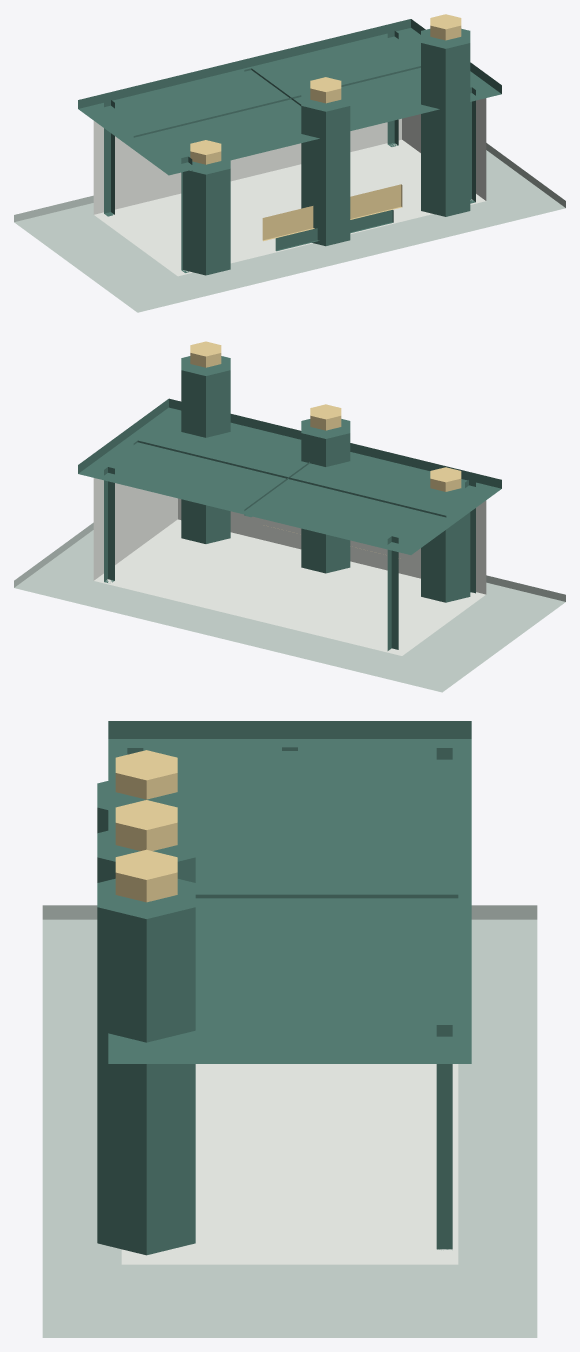
File: gas_station_utility.glb
3 views of the same model, one above another, from view 1: azimuth 30°, elevation 25°; view 2: azimuth 150°, elevation 25°; view 3: azimuth 270°, elevation 25° (orthographic). The views are drawn at different scales.
Visible parts, largest first — view 1: Roof, Details, Walls, Foundation, Frame; view 2: Walls, Roof, Foundation, Details, Frame; view 3: Roof, Foundation, Walls, Details, Frame.
Boxes of the visible parts, box(x1,y1,x2,y2) form: Roof: box(78, 19, 501, 175); Details: box(183, 14, 470, 275); Walls: box(93, 98, 486, 276); Foundation: box(14, 143, 565, 312); Frame: box(104, 30, 475, 272); Walls: box(93, 478, 486, 655); Roof: box(78, 398, 501, 554); Foundation: box(14, 522, 565, 692); Details: box(181, 341, 470, 602); Frame: box(104, 440, 475, 650); Roof: box(108, 721, 471, 1063); Foundation: box(42, 905, 537, 1337); Walls: box(121, 1064, 458, 1264); Details: box(97, 750, 195, 1255); Frame: box(127, 747, 458, 1249).
Bounding box in the file's own units: 40 × 17 × 20.
